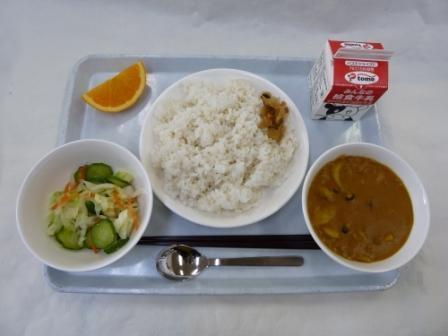Citrus: (72, 48, 156, 120)
Curry: (304, 149, 427, 269)
Milk: (304, 32, 400, 127)
Rice: (152, 89, 262, 208)
Salad: (26, 152, 147, 257)
vegetable based cooked food: (253, 91, 299, 143)
